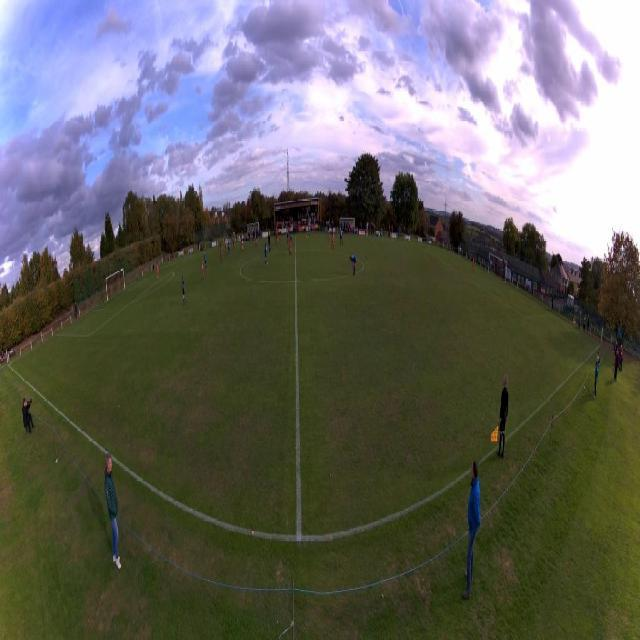ball: (306, 236, 307, 238)
player: (350, 255, 357, 276), (182, 276, 186, 305), (264, 243, 268, 267), (203, 250, 207, 271), (267, 232, 271, 252), (202, 258, 205, 283), (228, 240, 232, 258), (286, 227, 290, 244), (331, 233, 335, 249), (289, 235, 292, 256), (220, 245, 223, 264), (275, 227, 278, 245), (340, 228, 343, 246), (471, 256, 474, 274), (156, 264, 159, 280), (255, 234, 258, 248), (308, 225, 311, 239), (225, 238, 227, 256), (241, 236, 243, 253), (227, 235, 229, 252), (250, 230, 252, 245), (233, 236, 235, 250), (252, 229, 254, 241)
